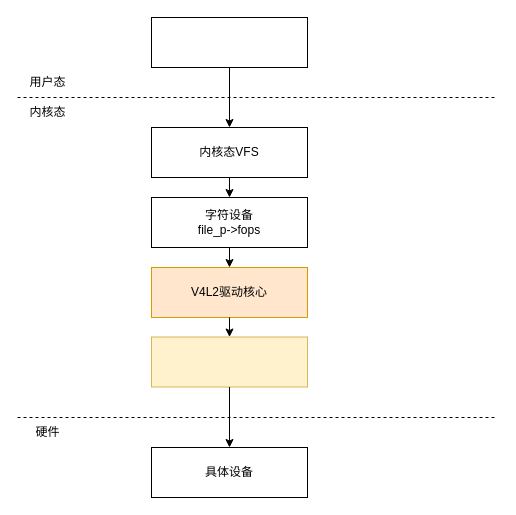
Some shapes in this 516 by 515 pixel diagram are drawn without their labels. Each missing label, with the box of its shape:
V4L2设备驱动: (150, 336, 308, 387)
用户态文件接口调用 /dev/video: (150, 16, 308, 68)
